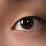eye: (21, 18, 33, 29)
